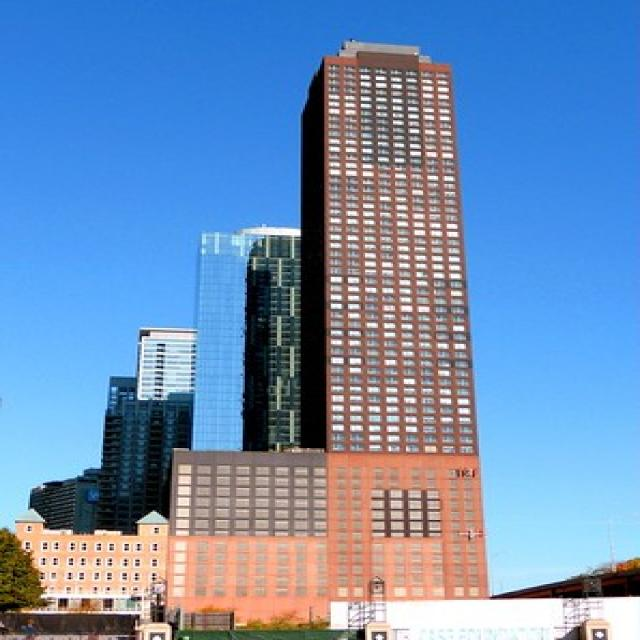Normal_building: (300, 32, 490, 598)
